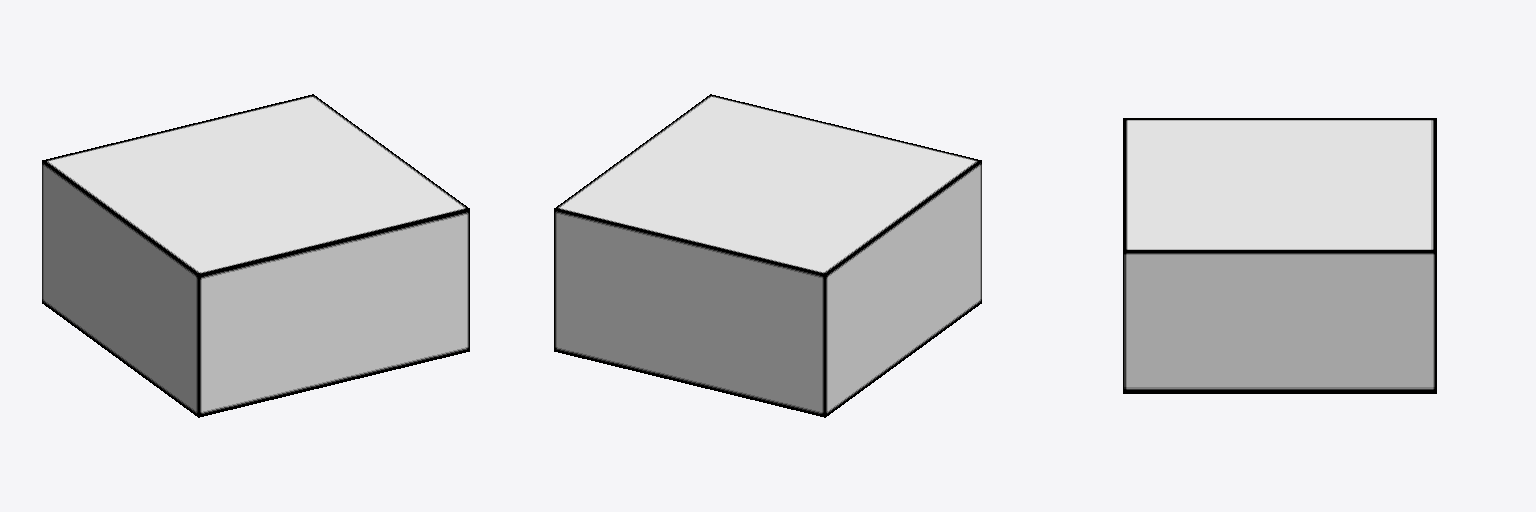
The picture shows the model from 3 angles: view 1: azimuth 30°, elevation 25°; view 2: azimuth 150°, elevation 25°; view 3: azimuth 270°, elevation 25°; orthographic projection.
Visible parts, largest first — view 1: Box01; view 2: Box01; view 3: Box01.
Part boxes in pixels (x1,y1,x2,y2): Box01: (42,94,469,417); Box01: (554,94,981,417); Box01: (1123,118,1436,393).
Bounding box in the file's own units: 2 × 1 × 2.
1 materials, 1 textured.